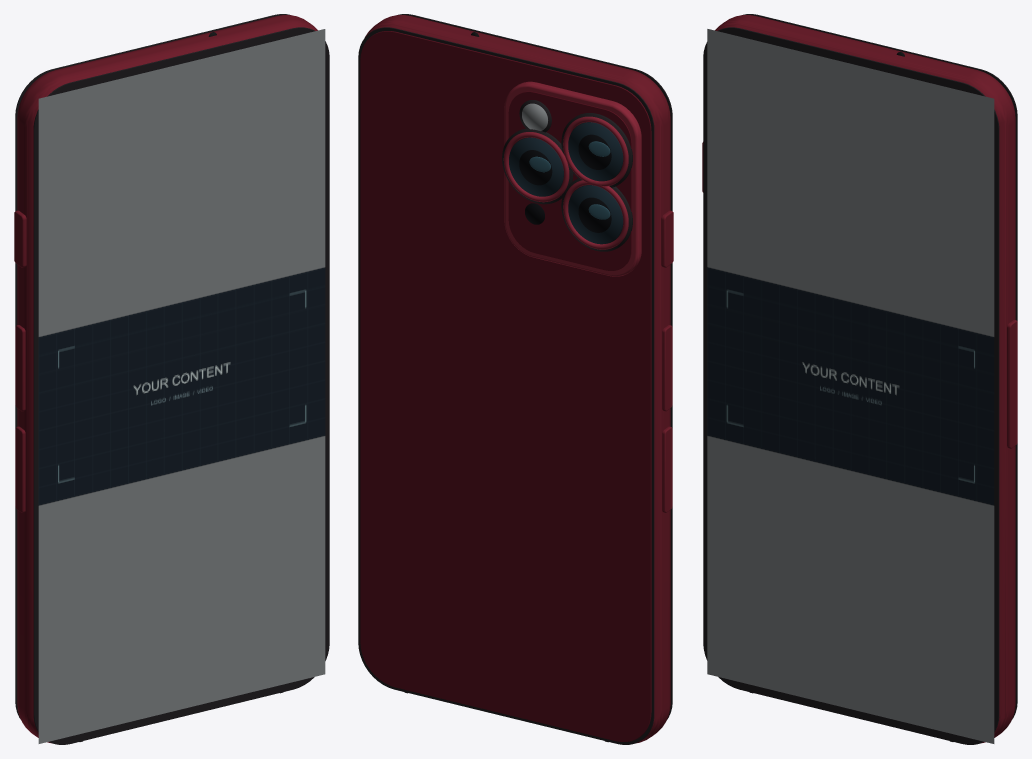
Rendered from Burgundy_Flagship_Phone_Custom_Screen.glb.
3 renders of one model, left to right at view 1: azimuth 30°, elevation 25°; view 2: azimuth 150°, elevation 25°; view 3: azimuth 330°, elevation 25°, orthographic.
Parts seen in each view (by area): view 1: Screen_Placeholder, Titanium_Frame, Front_Bezel, Rear_Bezel, Volume_Up, Volume_Down, Action_Button; view 2: Burgundy_Back_Glass, Titanium_Frame, Camera_Island_Inset, Rear_Bezel, Camera_Island, Front_Bezel, Camera_1_Lens_Glass, Camera_2_Lens_Glass, Camera_3_Lens_Glass, Camera_3_Polished_Ring, Camera_1_Polished_Ring, Camera_2_Polished_Ring (+10 smaller); view 3: Screen_Placeholder, Titanium_Frame, Front_Bezel, Rear_Bezel, Capture_Button.
Boxes of the visible parts, x1,y1,x2,y2 form: Screen_Placeholder: [38, 29, 325, 743]; Titanium_Frame: [17, 15, 317, 743]; Front_Bezel: [33, 27, 329, 744]; Rear_Bezel: [15, 14, 289, 719]; Volume_Up: [15, 325, 25, 411]; Volume_Down: [15, 426, 25, 512]; Action_Button: [14, 210, 26, 267]; Burgundy_Back_Glass: [360, 31, 651, 741]; Titanium_Frame: [365, 15, 670, 743]; Camera_Island_Inset: [508, 91, 631, 270]; Rear_Bezel: [358, 27, 654, 744]; Camera_Island: [504, 81, 641, 276]; Front_Bezel: [397, 14, 672, 719]; Camera_1_Lens_Glass: [568, 122, 623, 181]; Camera_2_Lens_Glass: [568, 185, 623, 244]; Camera_3_Lens_Glass: [509, 137, 563, 196]; Camera_3_Polished_Ring: [503, 132, 569, 202]; Camera_1_Polished_Ring: [563, 116, 628, 186]; Camera_2_Polished_Ring: [563, 180, 628, 249]; Screen_Placeholder: [707, 29, 994, 743]; Titanium_Frame: [715, 15, 1015, 743]; Front_Bezel: [703, 27, 999, 744]; Rear_Bezel: [743, 14, 1017, 719]; Capture_Button: [1007, 319, 1017, 448].
Bounding box in the file's own units: 0.08 × 0.1668 × 0.0126.
19 materials, 1 textured.
